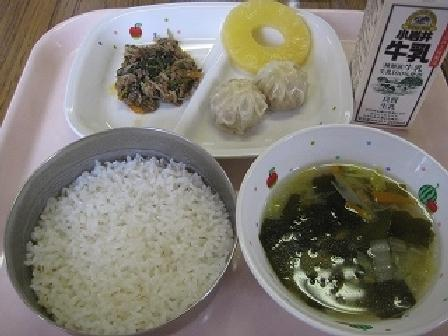Milk: (343, 1, 447, 128)
Rice: (10, 130, 235, 317)
Soups: (241, 131, 446, 326)
pastry: (212, 60, 311, 134)
pineapple: (223, 0, 317, 73)
salad with sauce: (113, 32, 204, 109)
